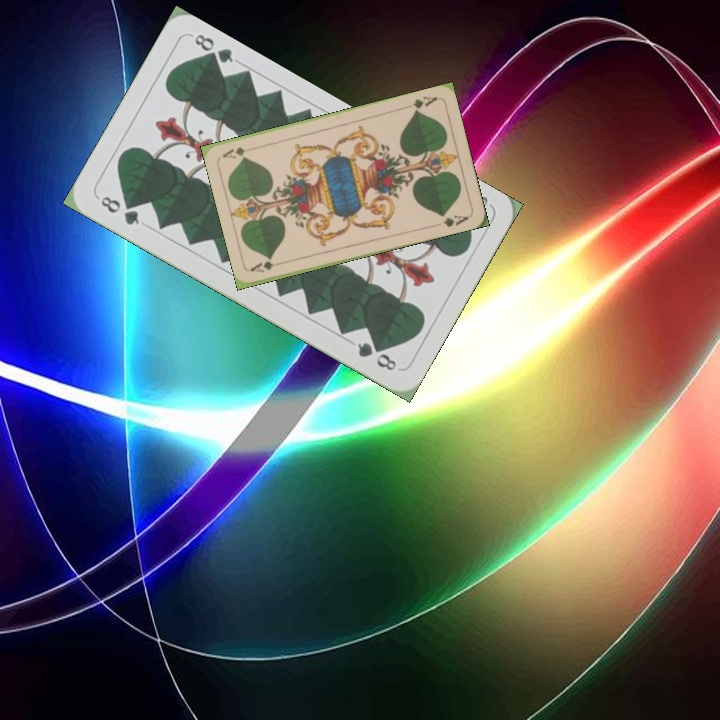G8: (96, 192, 142, 228)
GA: (247, 257, 288, 275), (409, 92, 440, 115)
